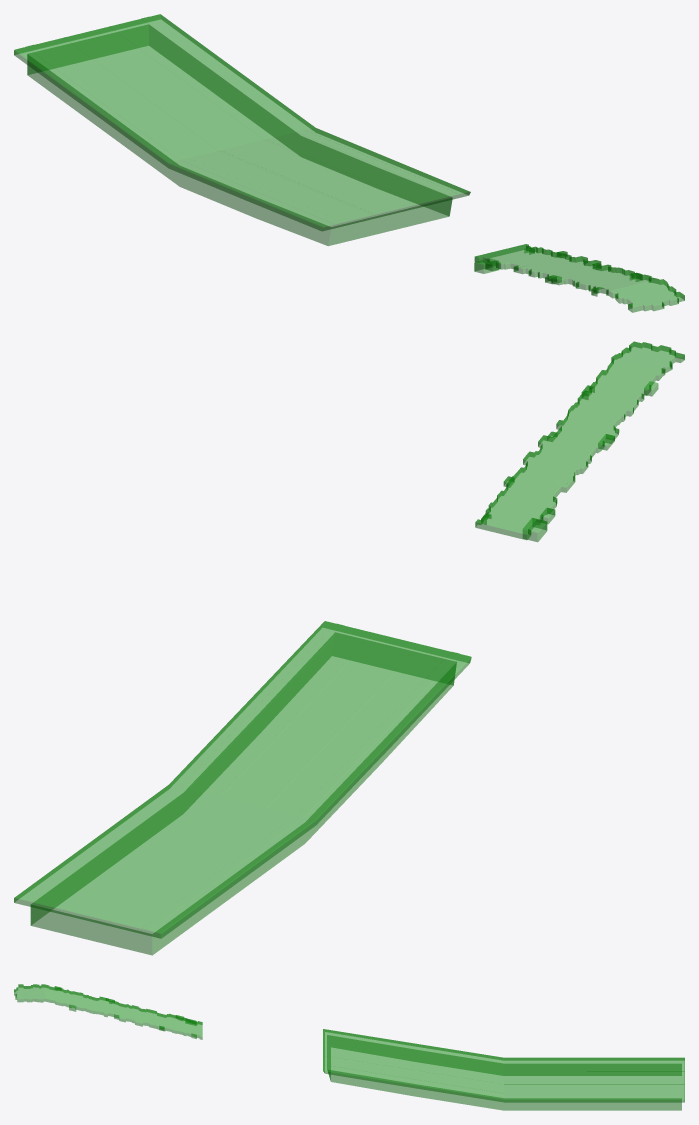
File: Road01.obj
3 renders of one model, top to bottom at view 1: azimuth 30°, elevation 25°; view 2: azimuth 150°, elevation 25°; view 3: azimuth 270°, elevation 25°, orthographic. The views are drawn at different scales.
Bounding box in the file's own units: 41.69 × 47.41 × 282.
